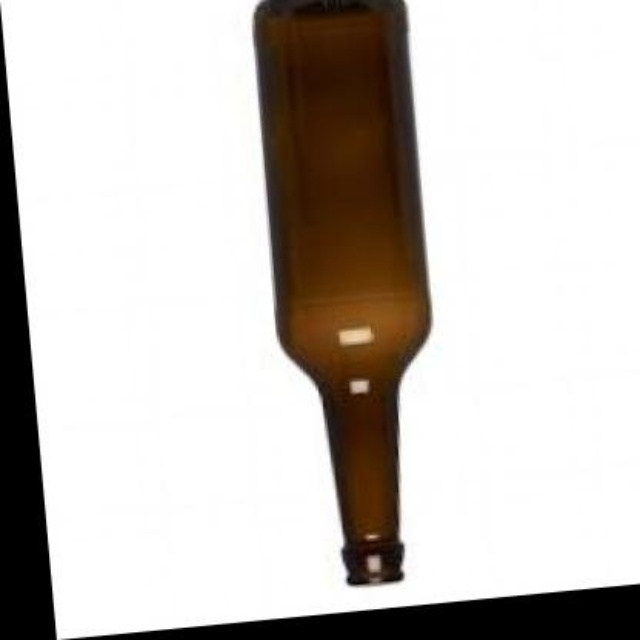trash: (254, 0, 429, 583)
